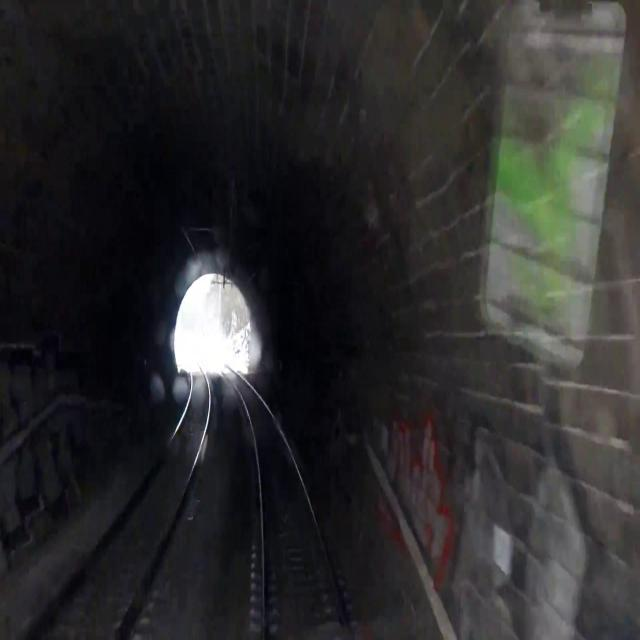rail-track: (27, 362, 207, 639), (222, 366, 347, 639)
